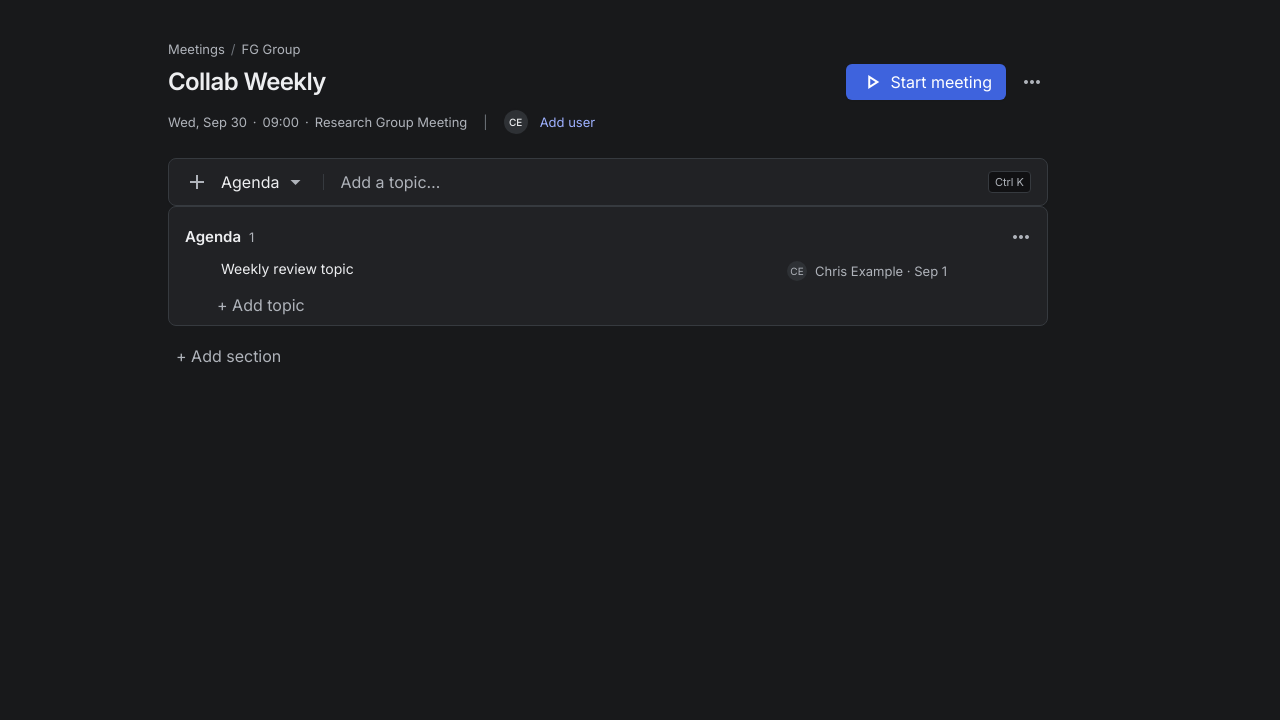
Test: Meeting Detail upcoming theme contract › uses the canonical overlay scrim for the delete dialog and keeps it cancellable
Expected: the heading "Collab Weekly" is shown, [168,66,326,98]
What coordinates should you click on to do the following:
click the button named "Meeting actions"
I would click on:
 (1032, 82)
Its box is [1016,66,1048,98].
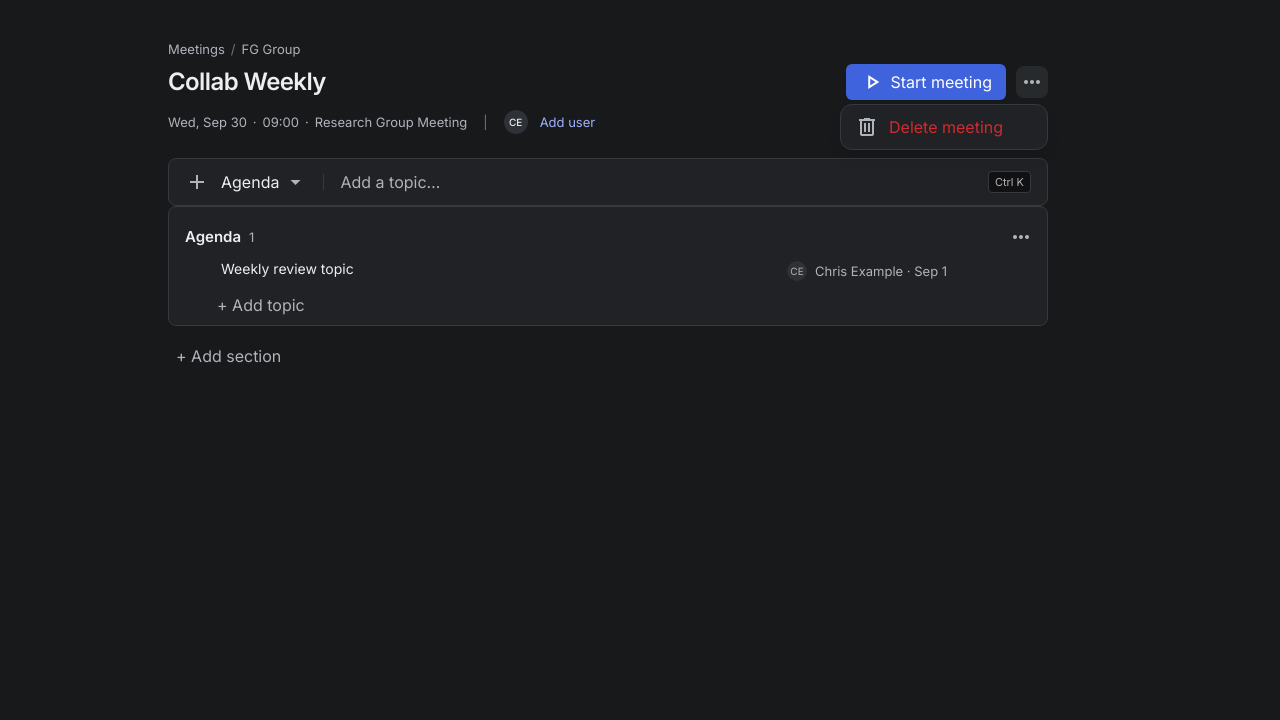
What coordinates should you click on to do the following:
click the menu item "Delete meeting"
I would click on:
 (944, 127)
Its box is [845,109,1043,145].
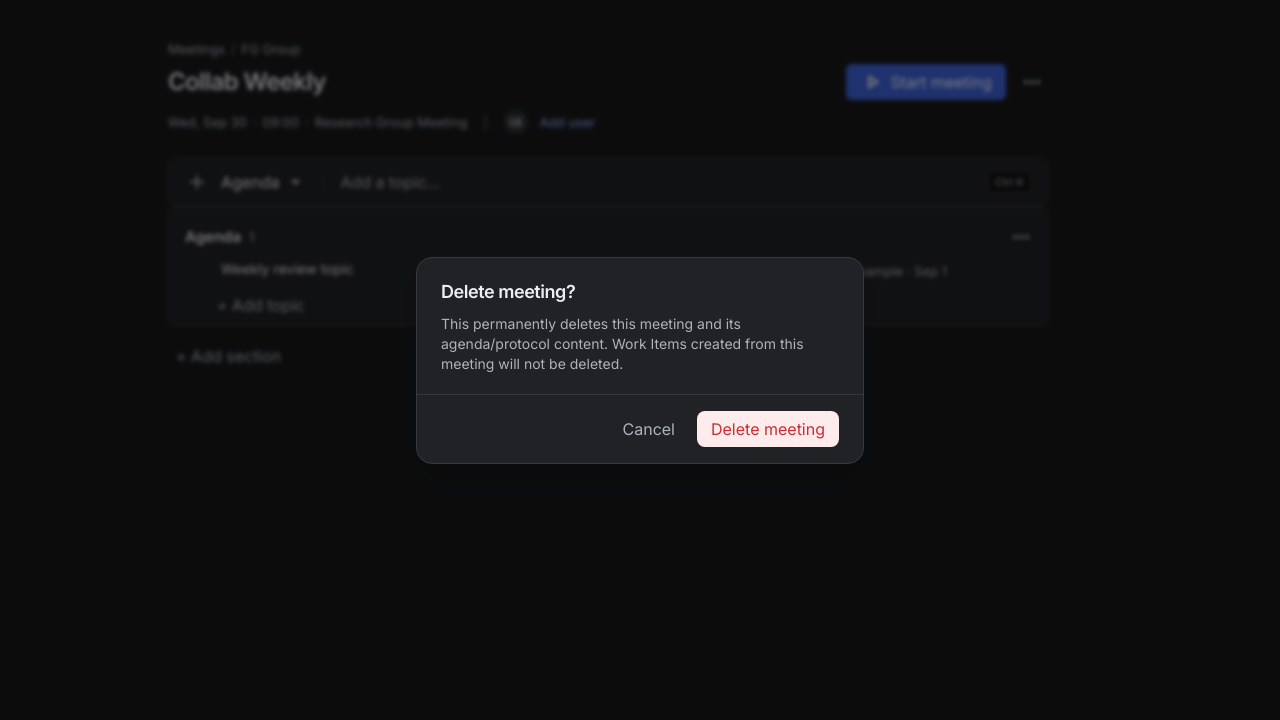
# Cancel keeps working on the themed dialog.
What coordinates should you click on to do the following:
click the button "Cancel"
I would click on:
 (649, 428)
Its box is [608,410,689,446].
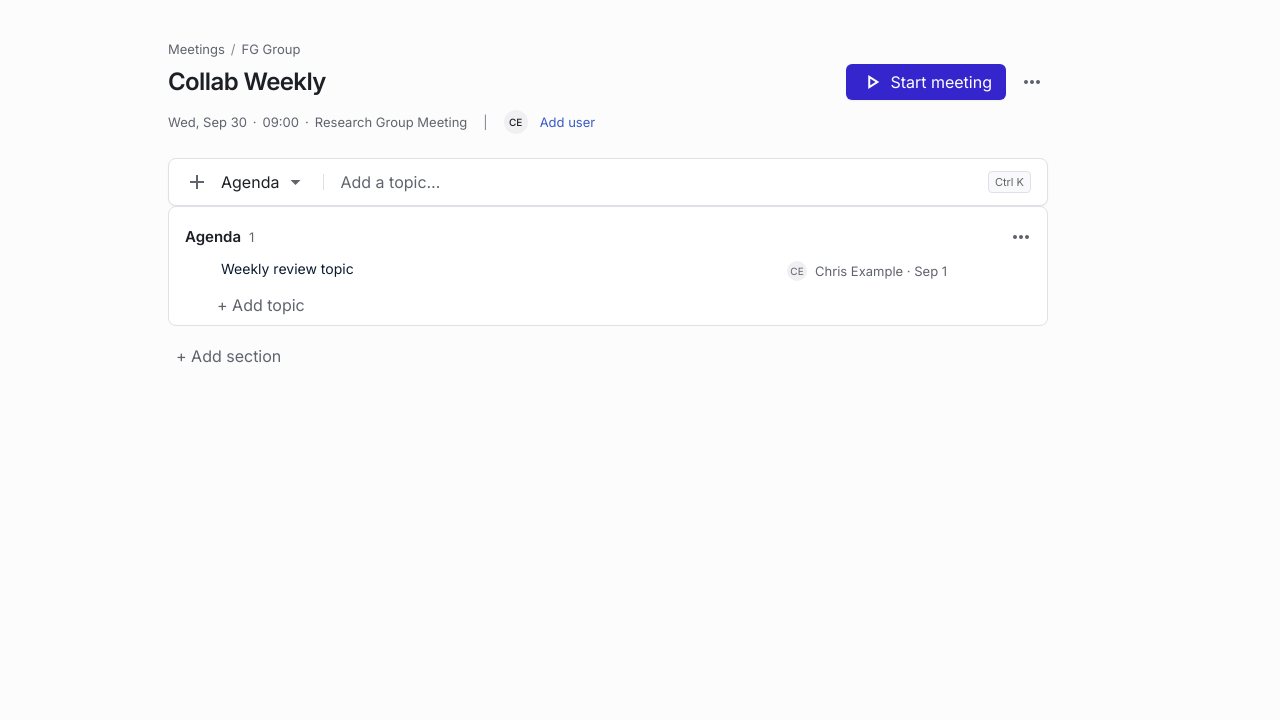
Expected: the heading "Delete meeting?" is gone
